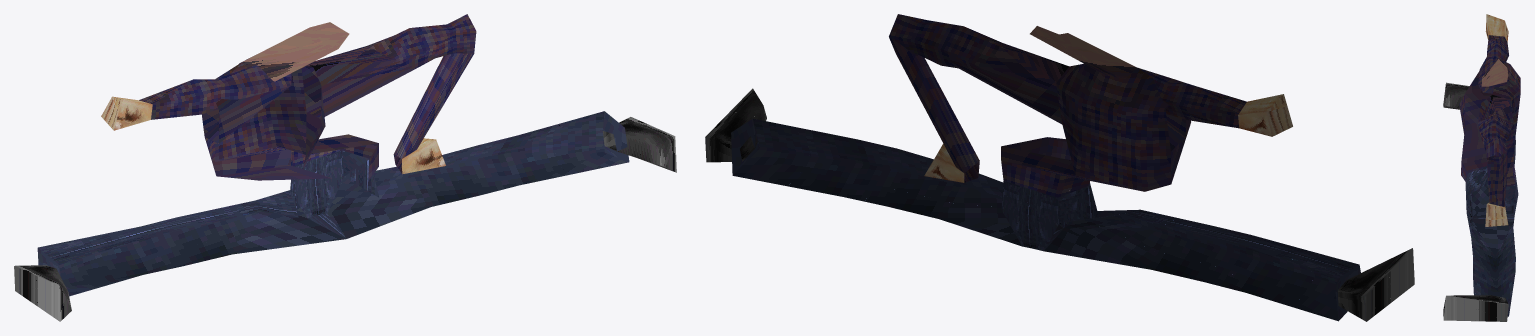
The model's file is CcheckmanZ.obj.
The picture shows the model from 3 angles, left to right: view 1: azimuth 30°, elevation 25°; view 2: azimuth 150°, elevation 25°; view 3: azimuth 270°, elevation 25°; orthographic projection. The views are drawn at different scales.
Size of the model in its own units: 2167 by 681 by 335.
Materials: 15 (15 with a texture image).
